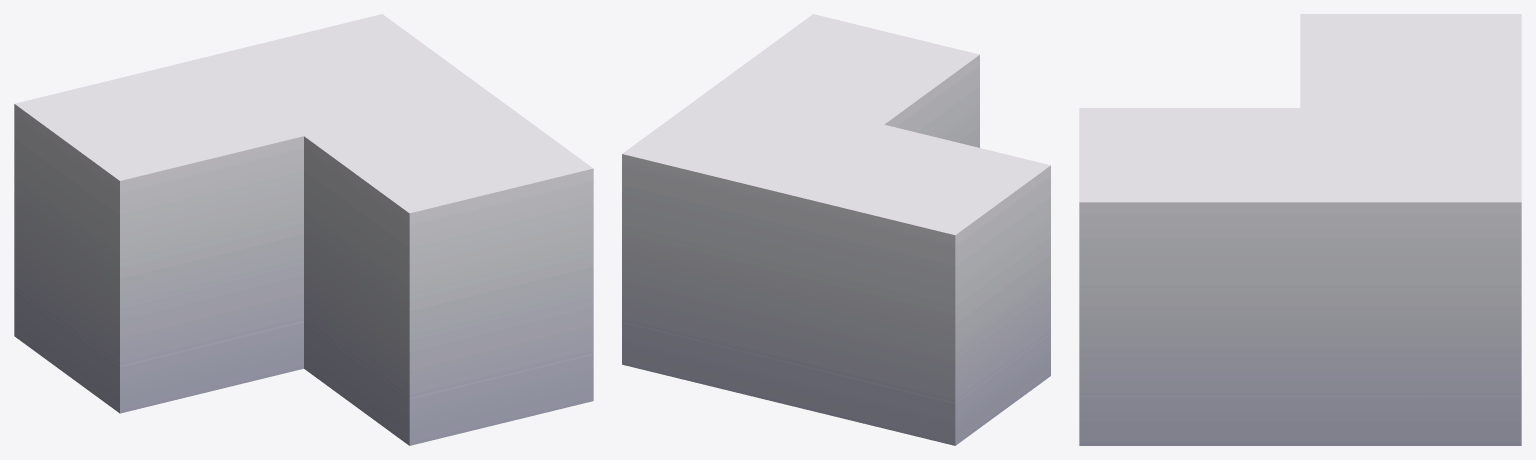
Rendered from none-lq-brick-corner.glb.
The picture shows the model from 3 angles, left to right: view 1: azimuth 30°, elevation 25°; view 2: azimuth 150°, elevation 25°; view 3: azimuth 270°, elevation 25°; orthographic projection. The views are drawn at different scales.
Visible parts, largest first — view 1: none-lq-brick-corner; view 2: none-lq-brick-corner; view 3: none-lq-brick-corner.
Part boxes in pixels (x1,y1,x2,y2): none-lq-brick-corner: (14,14,593,445); none-lq-brick-corner: (622,14,1050,445); none-lq-brick-corner: (1079,14,1521,445).
Bounding box in the file's own units: 0.159 × 0.096 × 0.158.
Materials: 1 (1 with a texture image).
